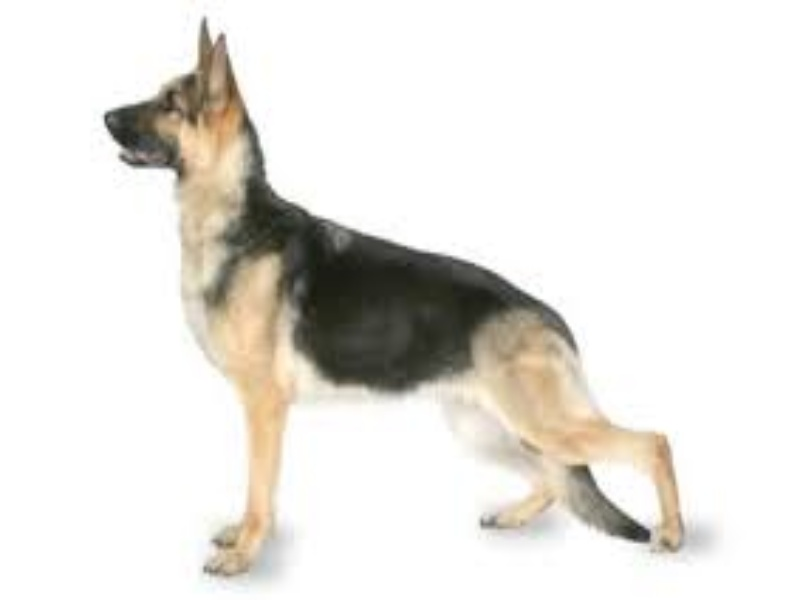dog: (40, 8, 735, 568)
